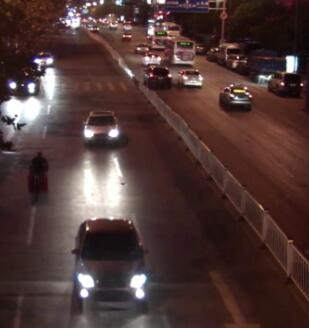bus: (162, 34, 197, 66), (146, 24, 168, 50), (159, 19, 182, 40)
car: (70, 216, 152, 315), (246, 46, 288, 84), (81, 108, 123, 145), (4, 66, 41, 96), (265, 71, 304, 98), (219, 80, 254, 109), (142, 64, 173, 90), (216, 43, 242, 68), (177, 67, 204, 87), (32, 49, 56, 68), (141, 51, 162, 66), (225, 54, 244, 70), (205, 45, 219, 60), (135, 42, 148, 53), (193, 42, 206, 53), (120, 29, 132, 40), (89, 23, 101, 32), (122, 22, 134, 30), (108, 19, 118, 28)
